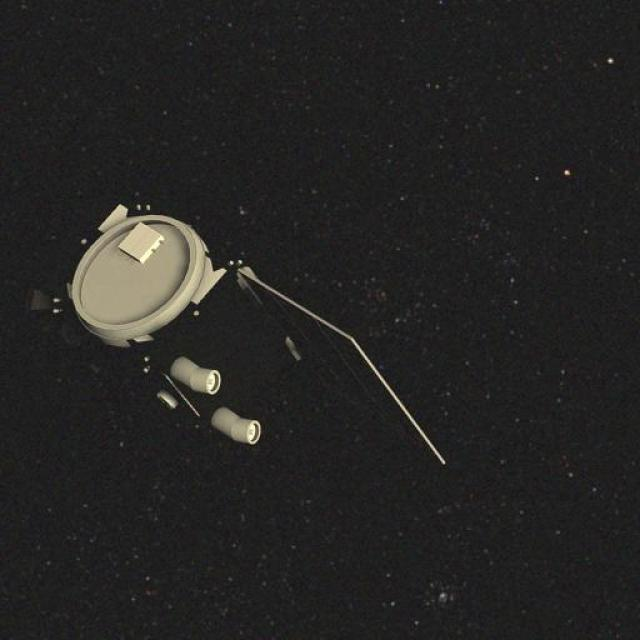proba_3_csc: (16, 191, 454, 488)
